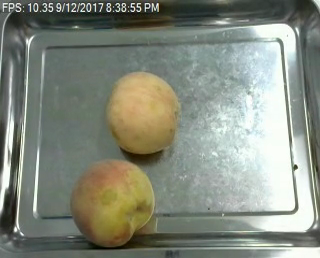Peach: (70, 158, 155, 247), (105, 70, 179, 154)
